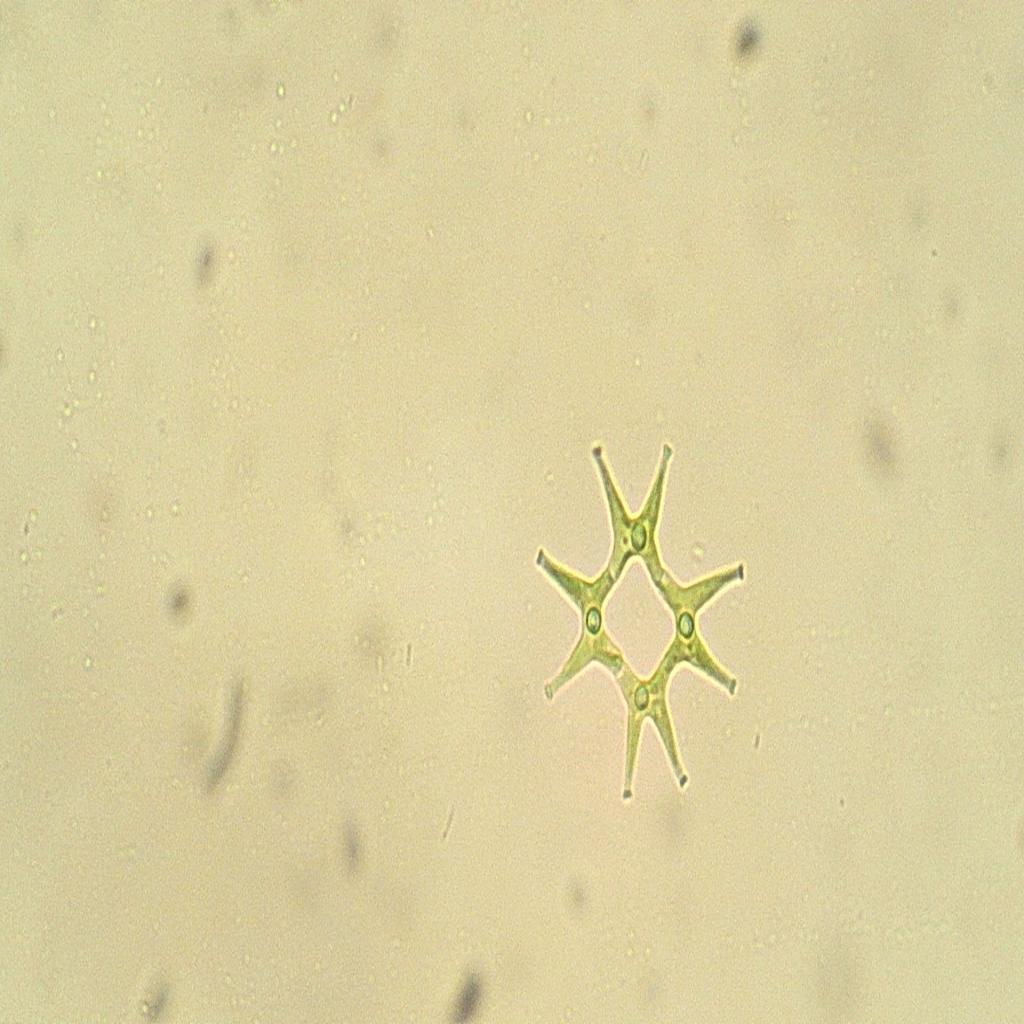Pediastrum_10: (522, 394, 767, 851)
